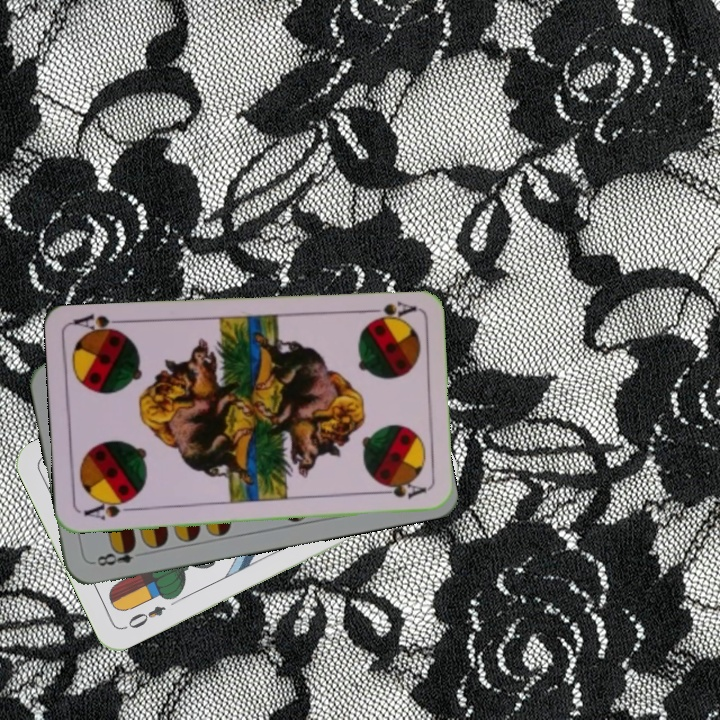E8: (89, 541, 139, 569)
EO: (120, 601, 168, 632)
SA: (80, 495, 138, 522), (359, 297, 418, 323)
